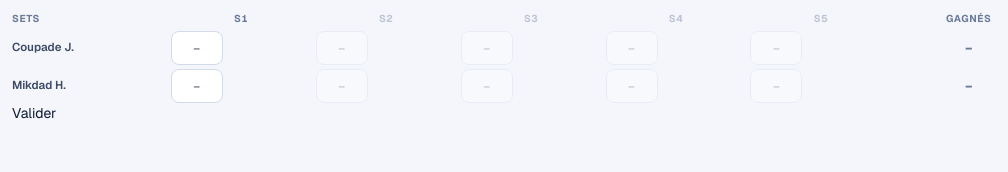
saisie d'un match en 3 sets gagnants à 60 › un set sans vainqueur n'est signalé qu'une fois quitté
The image size is (1008, 172).
Type "45" into the number field named "Set 1, Coupade Jules".
click(197, 48); type("45")  # box [171,30,223,64]
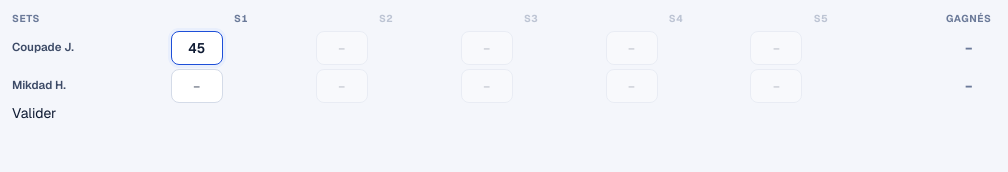
Type "52" into the number field named "Set 1, Mikdad Hakim".
click(197, 86); type("52")  # box [171,68,223,102]
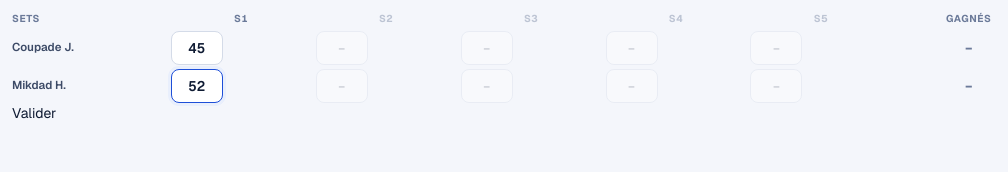
Leave the number field named "Set 1, Mikdad Hakim", box [171,68,223,102]
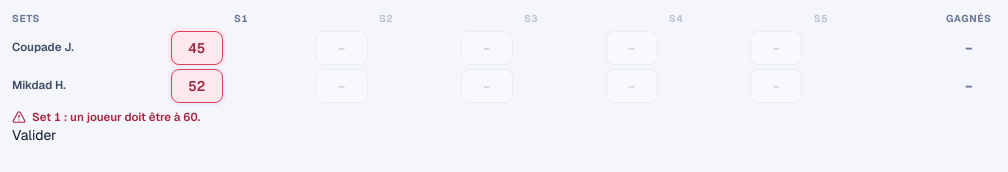
Result: the message reads "Set 1 : un joueur doit être à 60." at [32,108,200,124]
